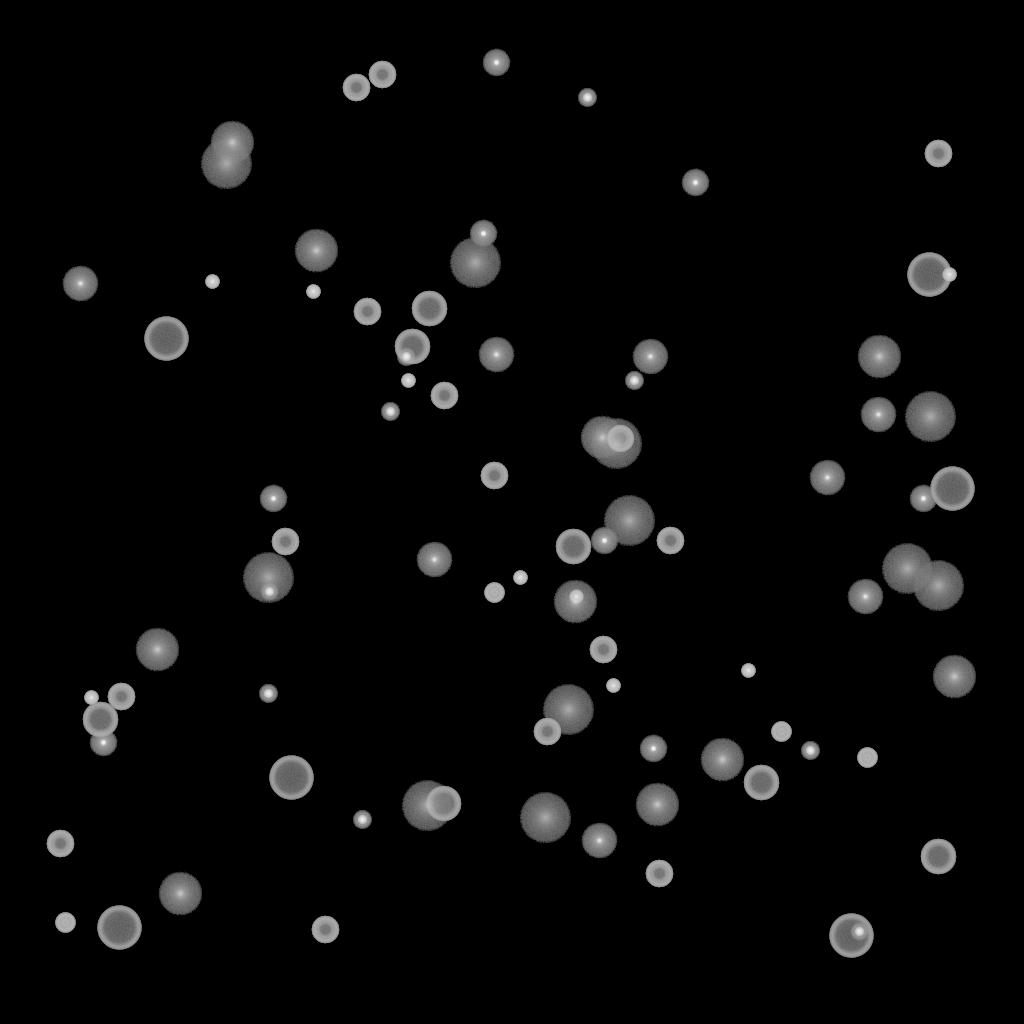depth:-10: (681, 169, 709, 197), (909, 485, 937, 513), (259, 485, 287, 513), (89, 729, 117, 757), (590, 527, 618, 555), (639, 735, 667, 763), (469, 220, 497, 248), (482, 49, 510, 77)
depth:-20: (625, 372, 643, 390), (381, 403, 399, 421), (801, 742, 819, 760), (850, 923, 868, 941), (259, 685, 277, 703), (397, 348, 415, 366), (578, 89, 596, 107), (353, 811, 371, 829), (260, 583, 278, 601)
depth:-30: (84, 691, 98, 705), (401, 374, 415, 388), (942, 268, 956, 282), (513, 571, 527, 585), (306, 285, 320, 299), (205, 275, 219, 289), (741, 664, 755, 678), (606, 679, 620, 693), (569, 590, 583, 604)
depth:-40: (484, 583, 504, 603), (55, 913, 75, 933), (771, 722, 791, 742), (857, 748, 877, 768)
depth:-50: (311, 916, 339, 944), (645, 860, 673, 888), (589, 636, 617, 664), (368, 61, 396, 89), (46, 830, 74, 858), (656, 527, 684, 555), (342, 74, 370, 102), (606, 425, 634, 453), (107, 683, 135, 711), (924, 140, 952, 168), (430, 382, 458, 410), (271, 528, 299, 556), (353, 298, 381, 326), (480, 462, 508, 490), (533, 718, 561, 746)
depth:-60: (920, 839, 956, 875), (743, 765, 779, 801), (82, 702, 118, 738), (555, 529, 591, 565), (425, 786, 461, 822), (394, 329, 430, 365), (411, 291, 447, 327)
depth:-70: (829, 914, 873, 958), (144, 317, 188, 361), (907, 253, 951, 297), (269, 756, 313, 800), (97, 906, 141, 950), (930, 467, 974, 511)
depth:0: (809, 460, 845, 496), (62, 266, 98, 302), (416, 542, 452, 578), (860, 397, 896, 433), (581, 823, 617, 859), (478, 337, 514, 373), (847, 579, 883, 615), (632, 339, 668, 375)
depth:10: (932, 655, 976, 699), (635, 783, 679, 827), (700, 738, 744, 782), (210, 121, 254, 165), (580, 416, 624, 460), (158, 872, 202, 916), (294, 229, 338, 273), (857, 335, 901, 379), (553, 580, 597, 624), (135, 628, 179, 672)
depth:20: (200, 139, 252, 189), (542, 685, 594, 735), (904, 392, 956, 442), (590, 419, 642, 469), (519, 793, 571, 843), (242, 553, 294, 603), (401, 781, 453, 831), (449, 238, 501, 288), (912, 561, 964, 611), (603, 496, 655, 546), (881, 544, 933, 594)
